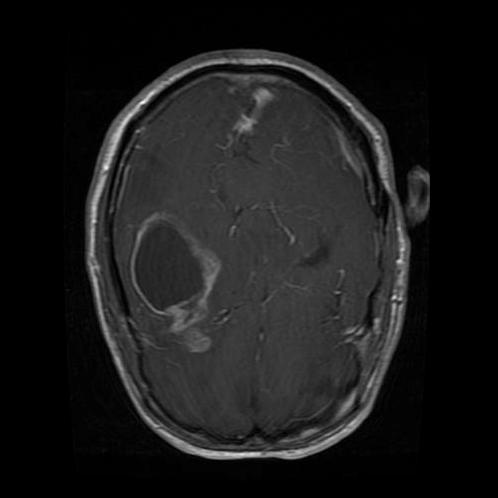Tumour-Glioma: (114, 205, 225, 338)
